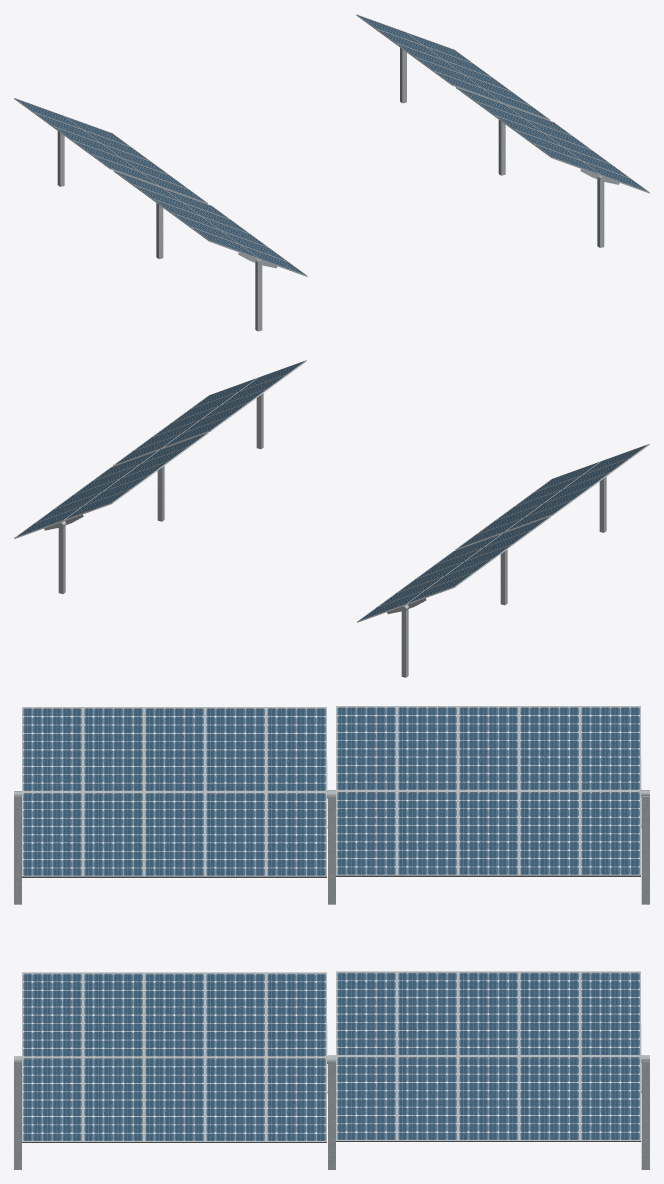
File: PV_field_tracker_5x5.glb
3 renders of one model, top to bottom at view 1: azimuth 30°, elevation 25°; view 2: azimuth 150°, elevation 25°; view 3: azimuth 270°, elevation 25°, orthographic. The views are drawn at different scales.
Visible parts, largest first — view 1: instance_19, instance_16; view 2: instance_18, instance_21; view 3: instance_5.003, instance_6.003, instance_7.003, instance_8.003, instance_9.003, instance_0.003, instance_1.003, instance_2.003, instance_3.003, instance_4.003, instance_0.007, instance_1.007 (+34 smaller).
Boxes of the visible parts, x1=… form: instance_19: x1=255, y1=262, x2=262, y2=331; instance_16: x1=597, y1=178, x2=604, y2=247; instance_18: x1=58, y1=524, x2=65, y2=593; instance_21: x1=401, y1=608, x2=408, y2=677; instance_5.003: x1=23, y1=973, x2=81, y2=1056; instance_6.003: x1=145, y1=973, x2=203, y2=1056; instance_7.003: x1=84, y1=973, x2=142, y2=1056; instance_8.003: x1=267, y1=973, x2=325, y2=1056; instance_9.003: x1=206, y1=973, x2=264, y2=1056; instance_0.003: x1=145, y1=1058, x2=203, y2=1140; instance_1.003: x1=206, y1=1058, x2=264, y2=1140; instance_2.003: x1=267, y1=1058, x2=325, y2=1140; instance_3.003: x1=23, y1=1058, x2=81, y2=1140; instance_4.003: x1=84, y1=1058, x2=142, y2=1140; instance_0.007: x1=459, y1=1057, x2=517, y2=1139; instance_1.007: x1=520, y1=1057, x2=578, y2=1139.
Bounding box in the file's own units: 12.89 × 2.8 × 10.13.
Materials: 4 (3 with a texture image).
